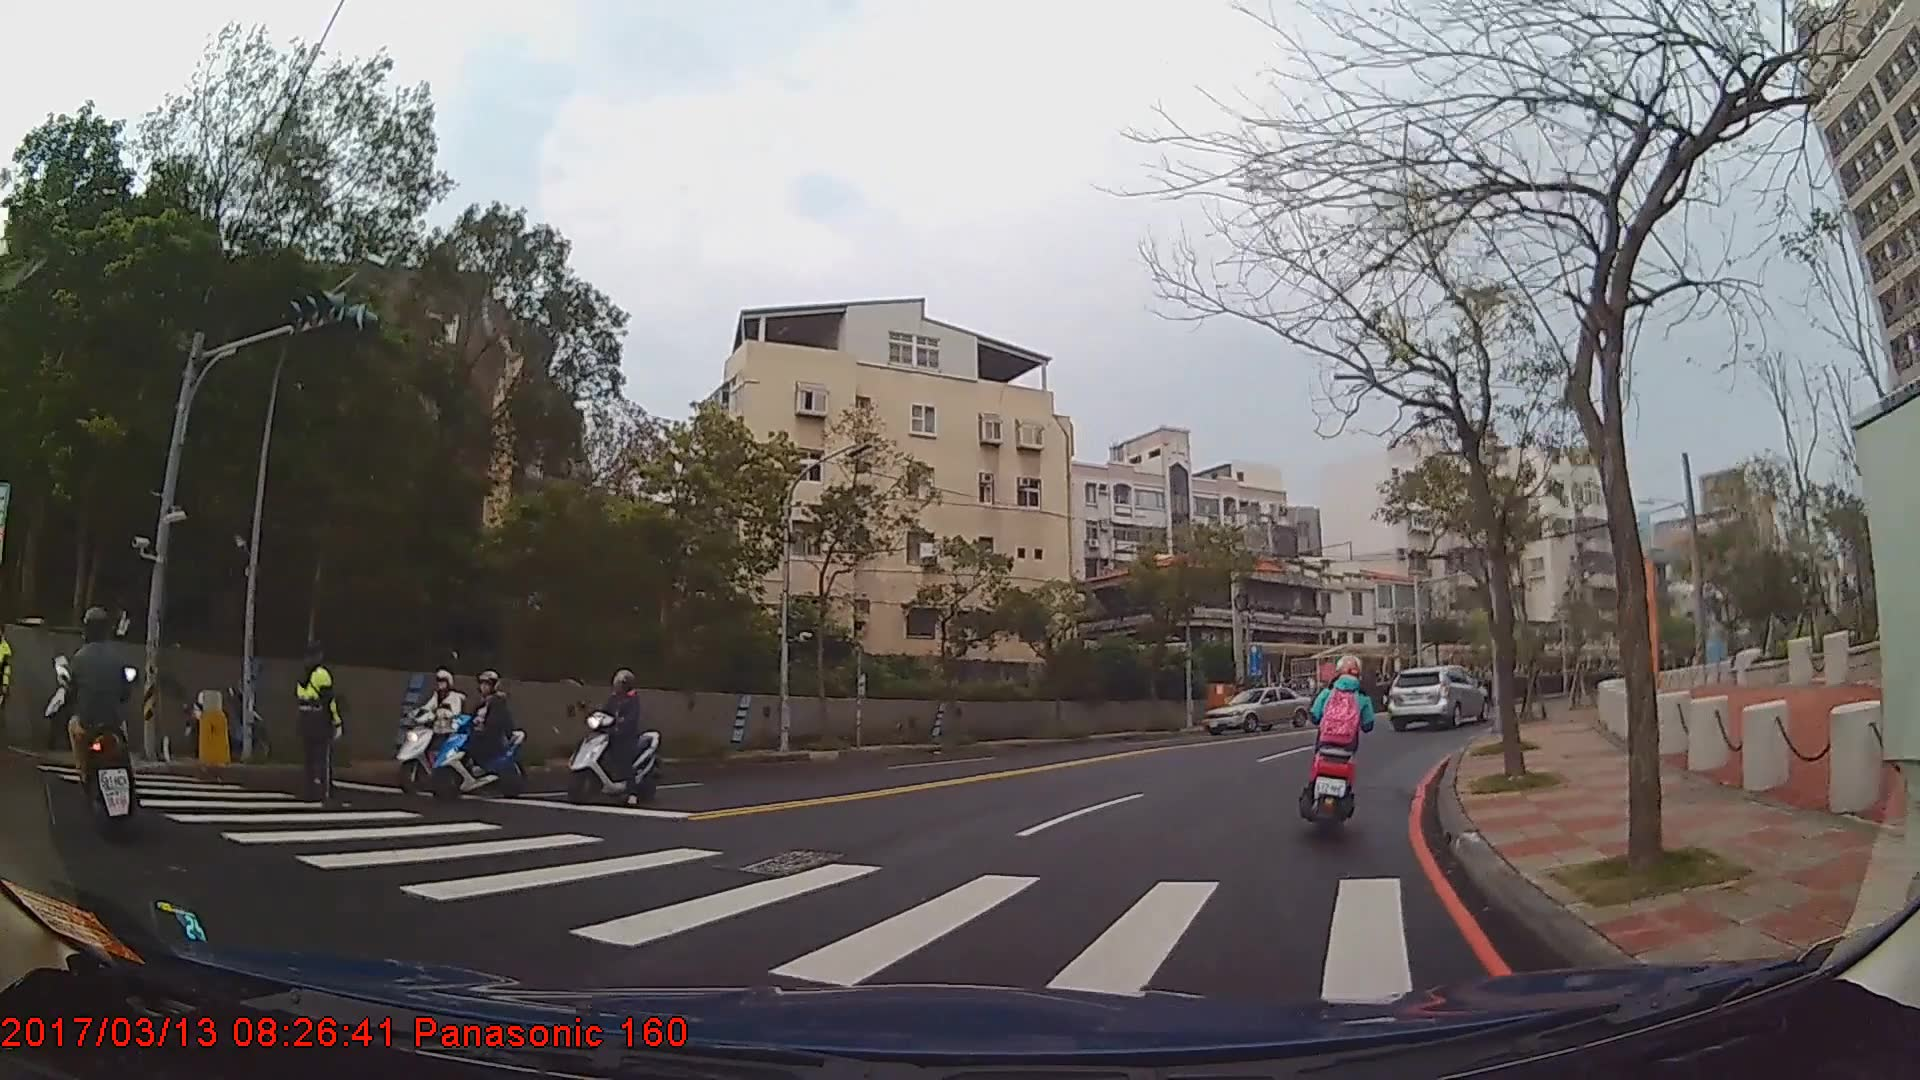pedestrian: (292, 638, 347, 801)
rider: (58, 604, 141, 834), (568, 671, 663, 806), (1303, 655, 1375, 825), (440, 668, 523, 795), (396, 666, 480, 789)
vehicle: (1382, 663, 1492, 729), (1202, 685, 1311, 736)
